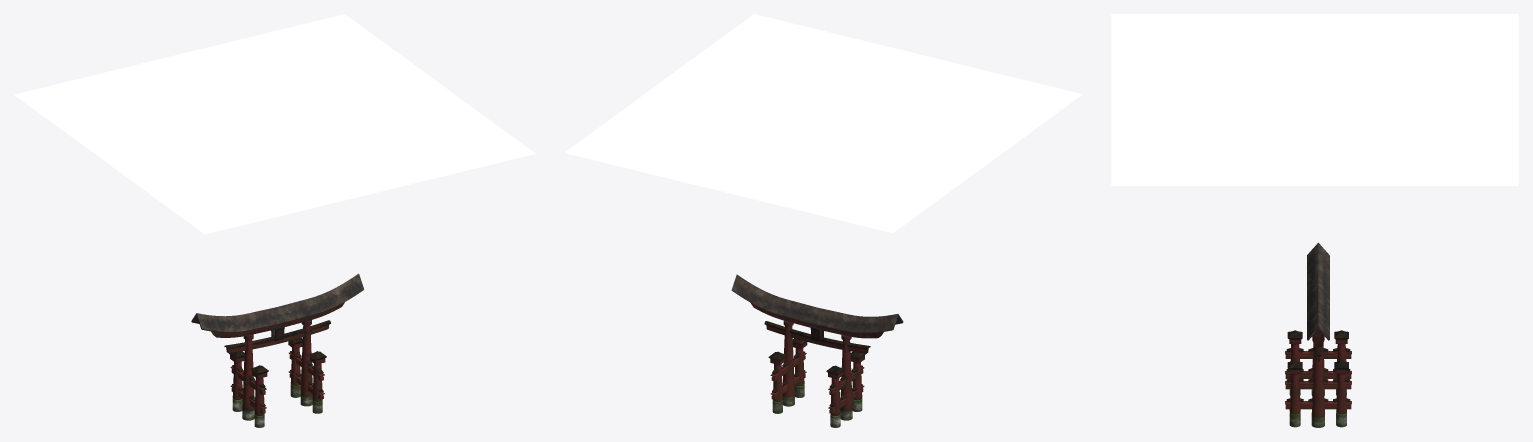
3 views of the same model, side by side, from view 1: azimuth 30°, elevation 25°; view 2: azimuth 150°, elevation 25°; view 3: azimuth 270°, elevation 25° (orthographic). The views are drawn at different scales.
Parts seen in each view (by area): view 1: Plane; view 2: Plane; view 3: Plane.
Boxes of the visible parts, box(x1,y1,x2,y2) form: Plane: box(14, 14, 535, 427); Plane: box(564, 14, 1082, 427); Plane: box(1111, 14, 1518, 427).
Size of the model in its own units: 9.34 by 7.79 by 9.34.
Materials: 7 (6 with a texture image).
